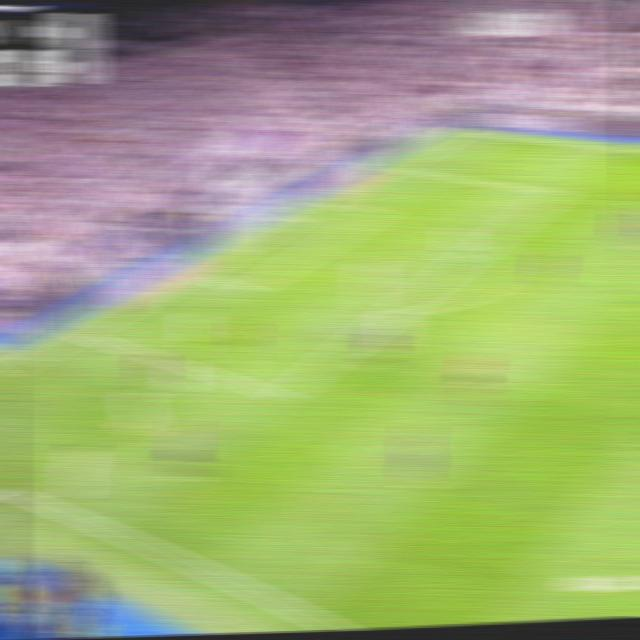bigarea_bottom_inner: (270, 382, 296, 408)
bigarea_bottom_outter: (67, 322, 93, 342)
bigarea_top_inner: (542, 183, 566, 201)
bigarea_top_outter: (380, 159, 404, 173)
corner: (445, 124, 471, 136)
smallarea_bottom_inner: (236, 279, 260, 299)
smallarea_top_inner: (368, 206, 388, 216)
top_arc_area_intersection: (479, 231, 503, 248)
